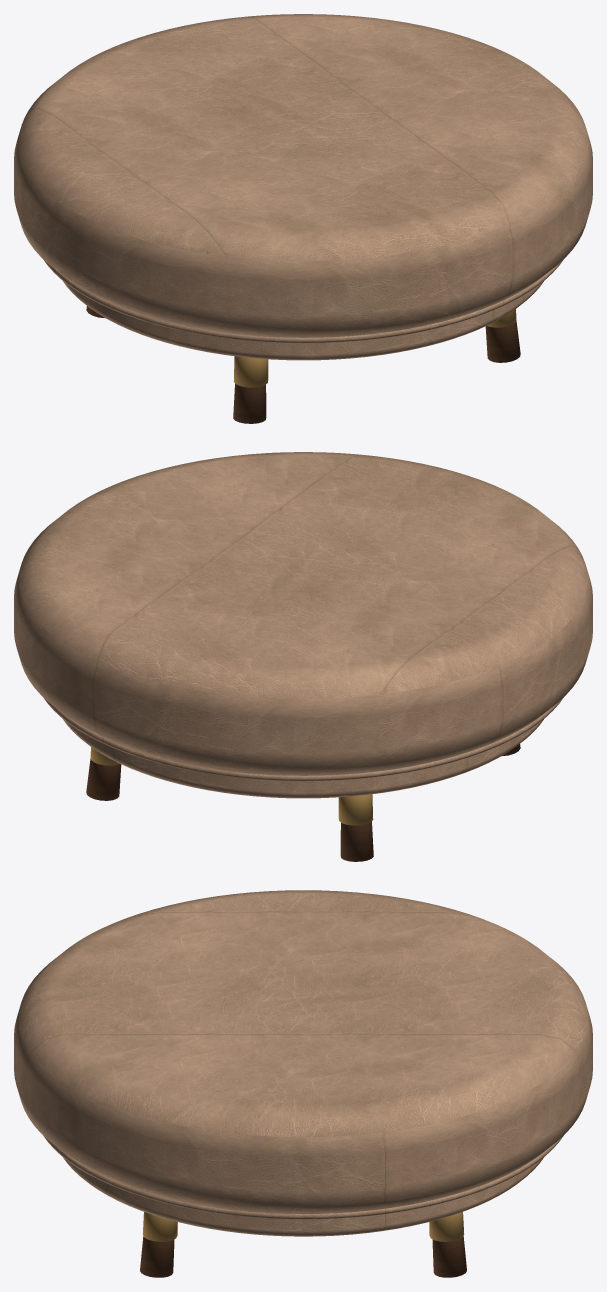
File: oslo-puff.glb
3 renders of one model, top to bottom at view 1: azimuth 30°, elevation 25°; view 2: azimuth 150°, elevation 25°; view 3: azimuth 270°, elevation 25°, orthographic.
Parts seen in each view (by area): view 1: seat, under, welt, leg2, leg3, cap2; view 2: seat, under, welt, leg1, leg0, cap1; view 3: seat, under, welt, leg0, leg3, cap0, cap3.
Part boxes in pixels (x1,y1,x2,y2): seat: (14,14,592,337); under: (63,281,543,360); welt: (43,259,563,343); leg2: (233,383,266,423); leg3: (485,320,520,362); cap2: (233,356,268,387); seat: (14,452,592,775); under: (63,719,543,798); welt: (43,697,563,781); leg1: (340,821,373,861); leg0: (86,758,121,800); cap1: (338,794,373,825); seat: (14,890,592,1213); under: (63,1157,543,1236); welt: (43,1135,563,1219); leg0: (432,1236,466,1277); leg3: (140,1236,174,1277); cap0: (429,1212,464,1241); cap3: (142,1212,177,1241).
Bounding box in the file's own units: 0.9 × 0.3623 × 0.9.
3 materials, 2 textured.
